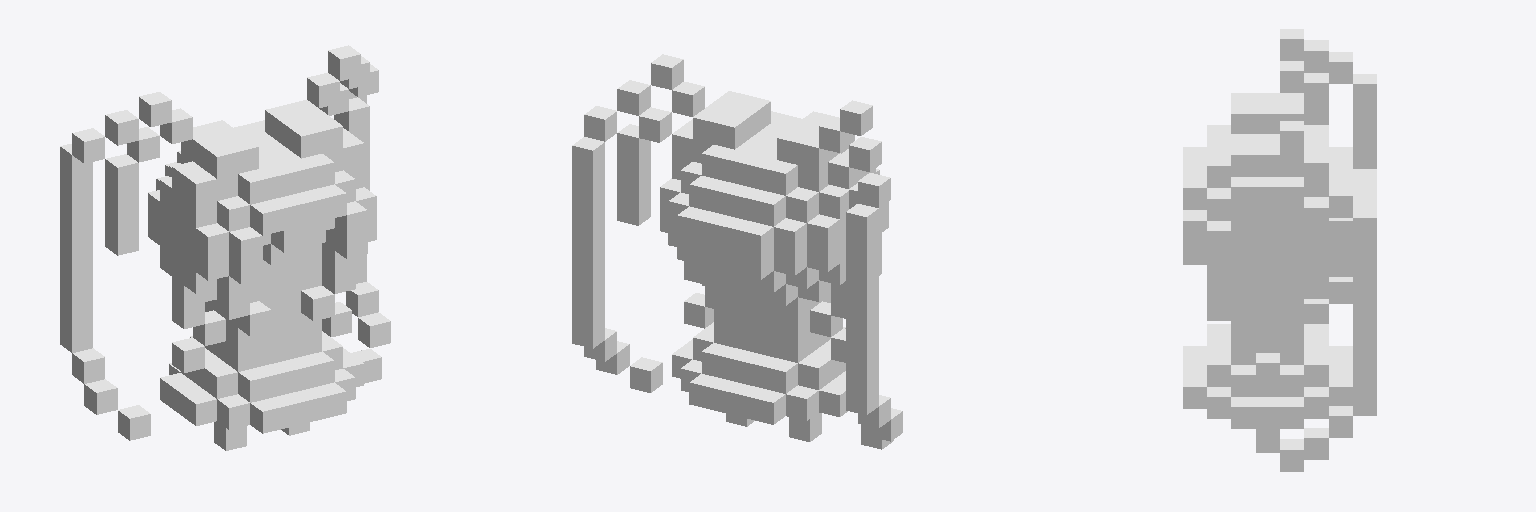
The model's file is rain.obj.
The picture shows the model from 3 angles: view 1: azimuth 30°, elevation 25°; view 2: azimuth 150°, elevation 25°; view 3: azimuth 270°, elevation 25°; orthographic projection.
Parts seen in each view (by area): view 1: object 1; view 2: object 1; view 3: object 1.
Part boxes in pixels (x1,y1,x2,y2): object 1: (60, 45, 390, 450); object 1: (572, 54, 902, 449); object 1: (1183, 29, 1376, 471).
Size of the model in its own units: 1.4 by 1.6 by 0.8.